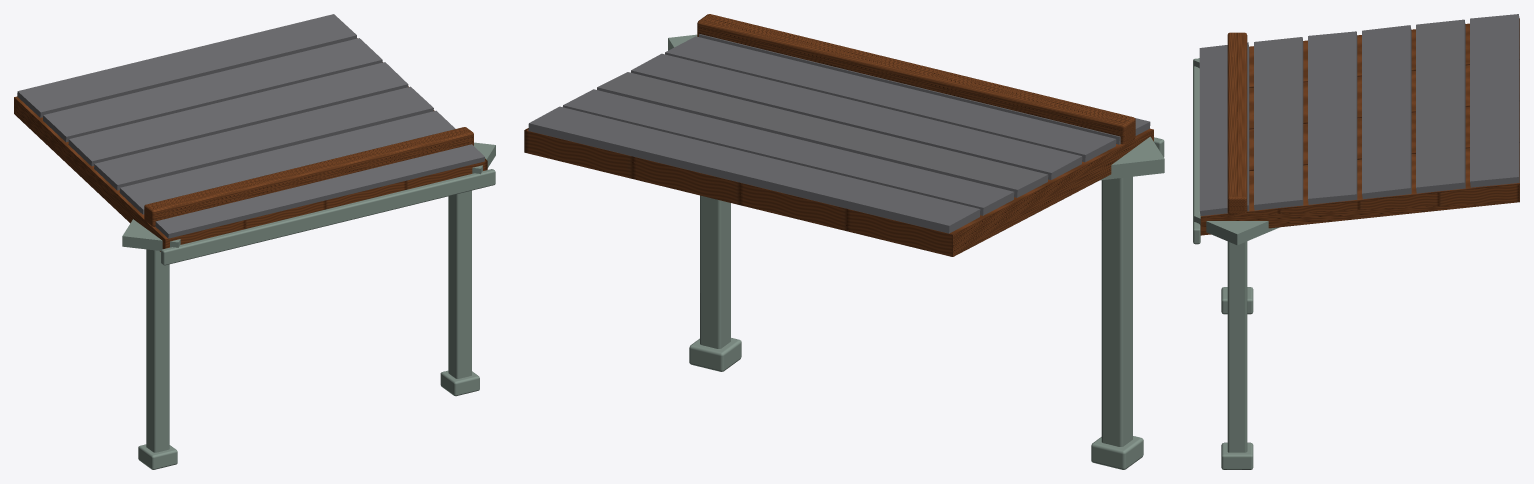
Rendered from halloween-slasher-street-porch-roof-section-e3940613__27274.glb.
3 renders of one model, left to right at view 1: azimuth 30°, elevation 25°; view 2: azimuth 150°, elevation 25°; view 3: azimuth 270°, elevation 25°, orthographic. The views are drawn at different scales.
Visible parts, largest first — view 1: porch-roof-section; view 2: porch-roof-section; view 3: porch-roof-section.
Boxes of the visible parts, x1,y1,x2,y2 form: porch-roof-section: (14,14,495,469); porch-roof-section: (524,14,1164,469); porch-roof-section: (1193,14,1519,469).
Size of the model in its own units: 3.71 by 2.63 by 2.66.
3 materials, 1 textured.
